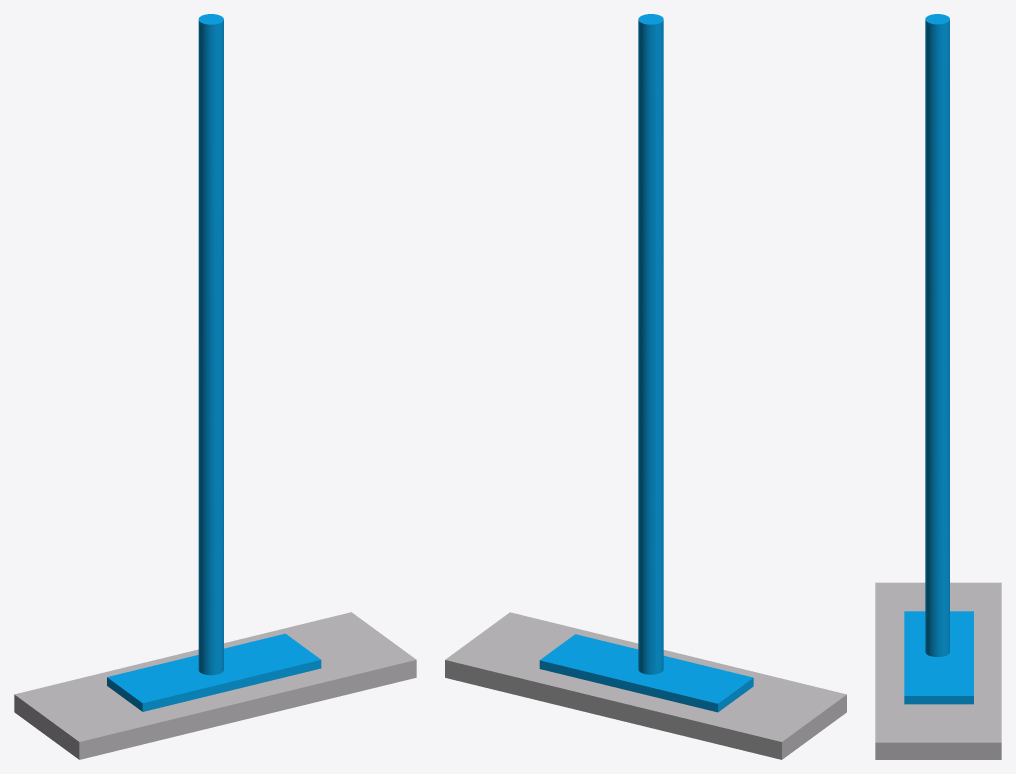
File: mop.fbx
3 renders of one model, left to right at view 1: azimuth 30°, elevation 25°; view 2: azimuth 150°, elevation 25°; view 3: azimuth 270°, elevation 25°, orthographic. The views are drawn at different scales.
Parts seen in each view (by area): view 1: root (×3); view 2: root (×3); view 3: root (×3).
Part boxes in pixels (<box>): root (×3): <box>14,14,416,759</box>; root (×3): <box>445,14,846,759</box>; root (×3): <box>875,14,1001,759</box>.
Size of the model in its own units: 0.2677 by 0.5137 by 0.0895.
Materials: 3 (3 with a texture image).
